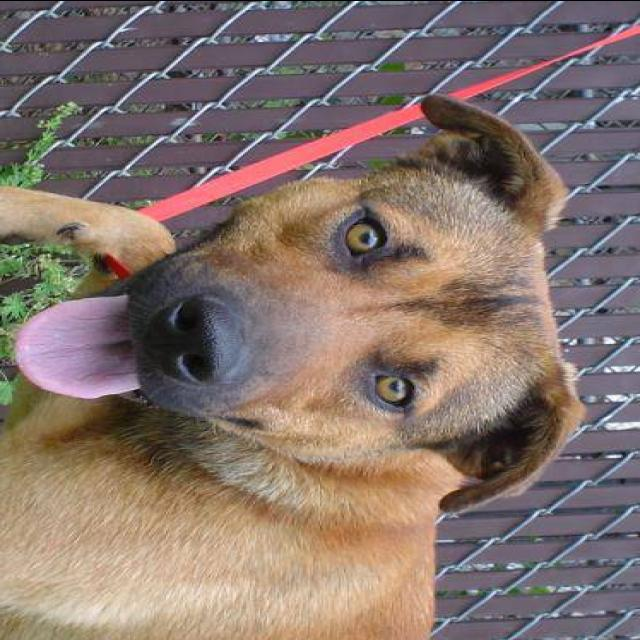dog: (0, 82, 596, 640)
